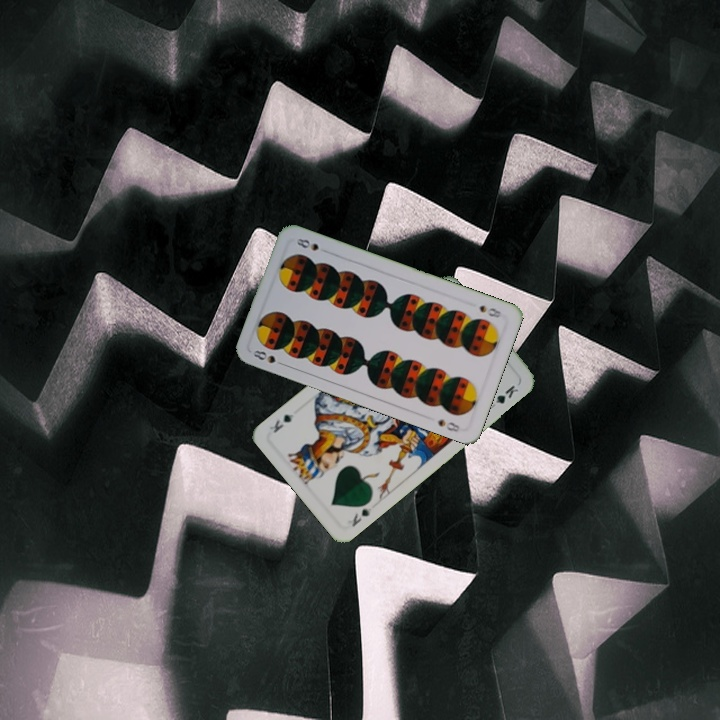GK: (348, 504, 374, 529)
S8: (249, 346, 288, 369), (475, 301, 507, 320)
